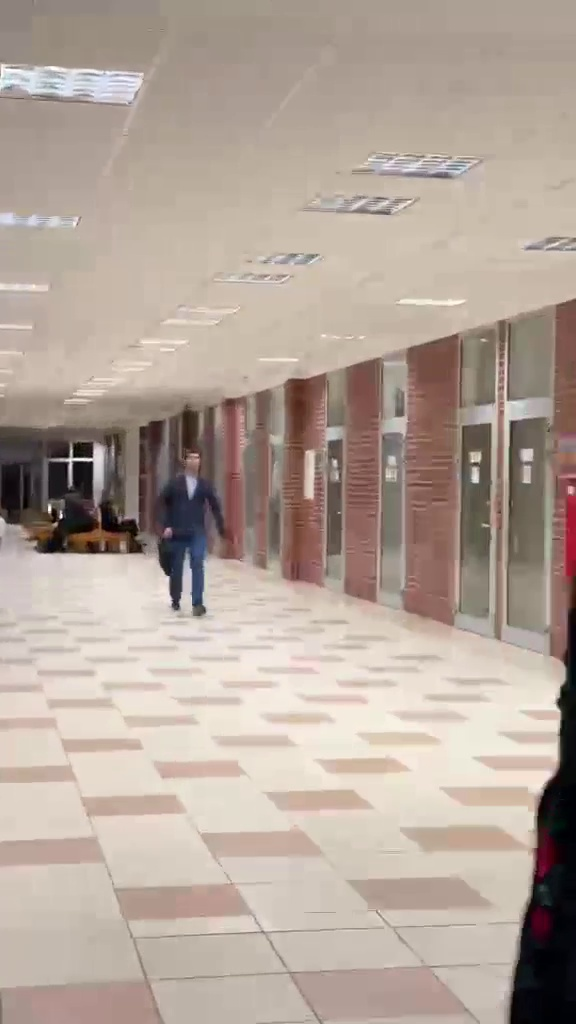no vest: (153, 441, 230, 613)
